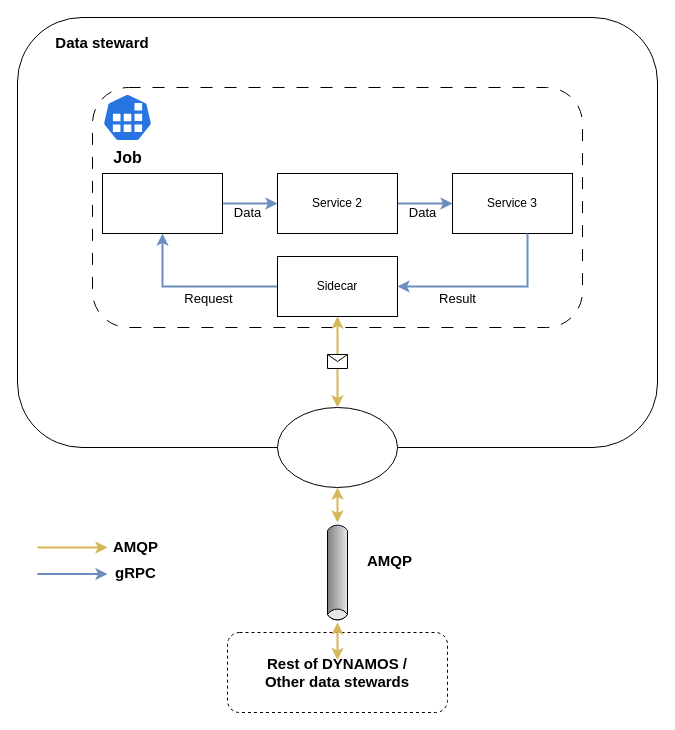
Image size: 675x730. Some labels were removed from this diagram. Here are the shapes that lost their labels. From the top down, the box of each, then its label:
(102, 172, 222, 234): Service 1
(276, 406, 398, 488): Agent
